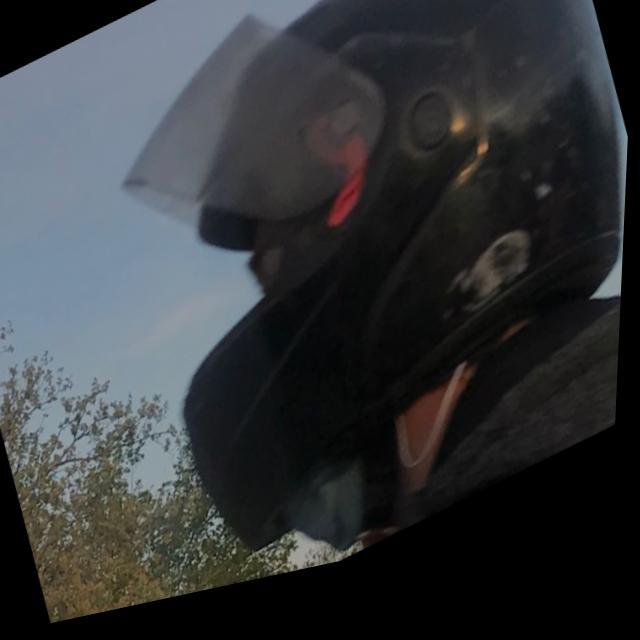Helmet: (120, 1, 629, 551)
